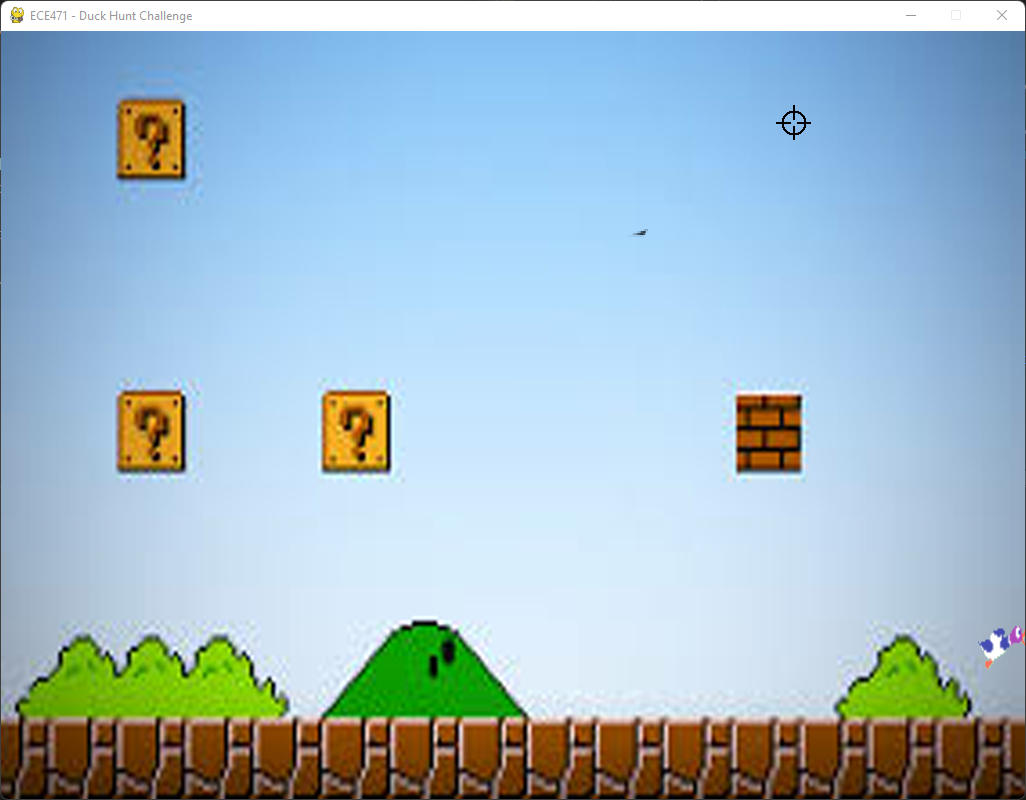blue: (974, 620, 1026, 671)
